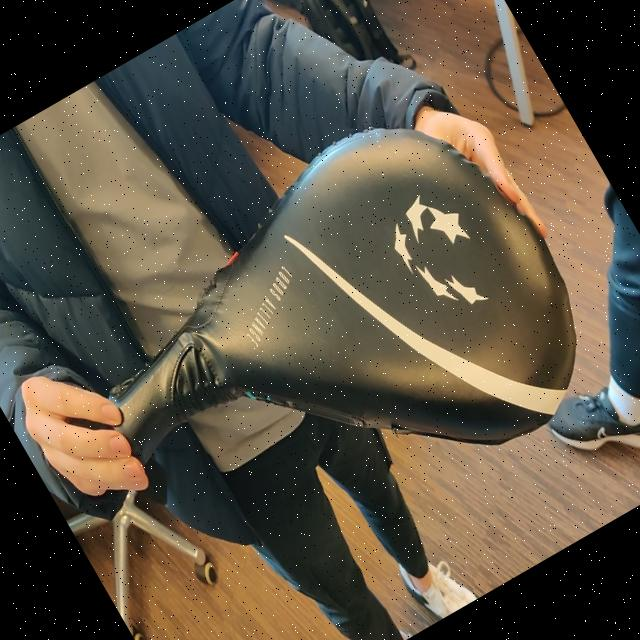paddle: (99, 125, 577, 466)
